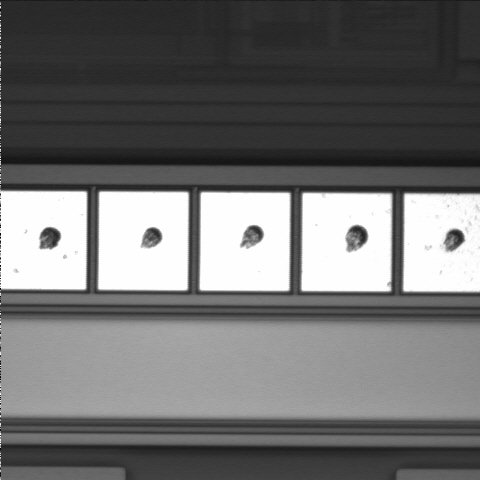pad: (200, 192, 290, 291), (98, 192, 188, 290), (302, 193, 392, 291)
